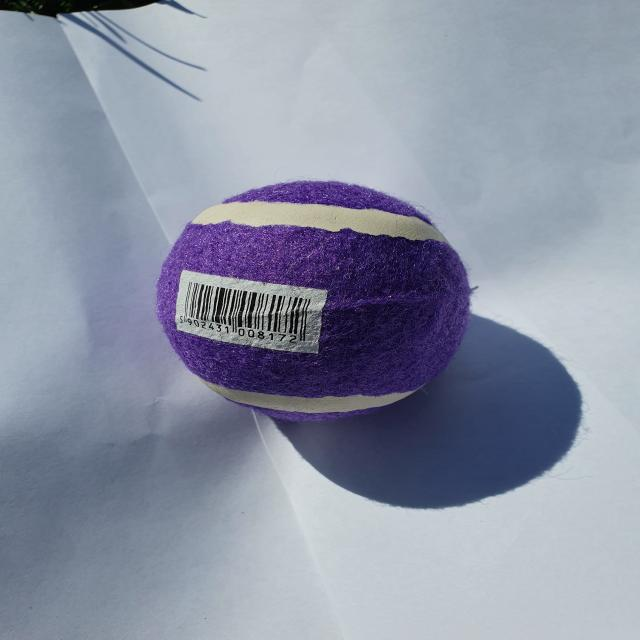purple: (156, 180, 470, 422)
